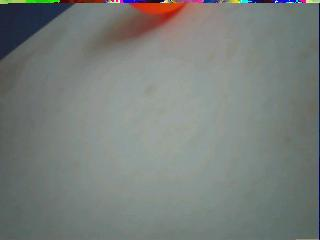oball: (131, 3, 186, 14)
